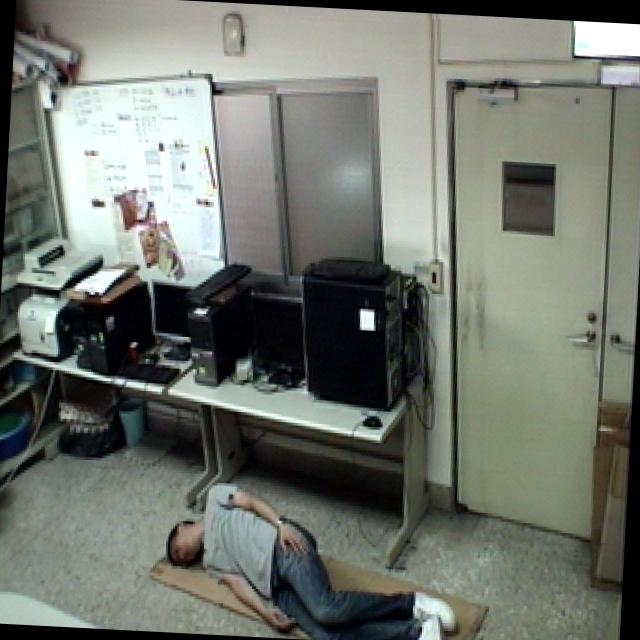lie: (155, 461, 472, 640)
